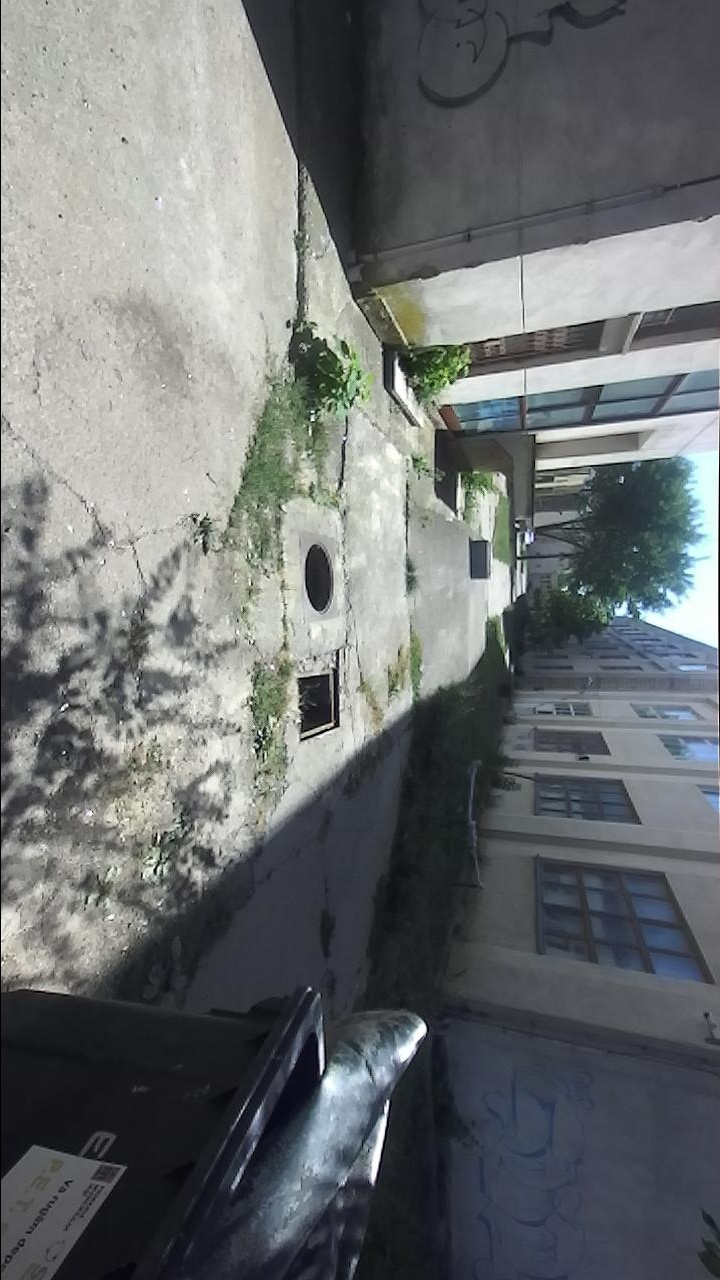drain: (294, 667, 342, 744), (303, 539, 336, 620)
